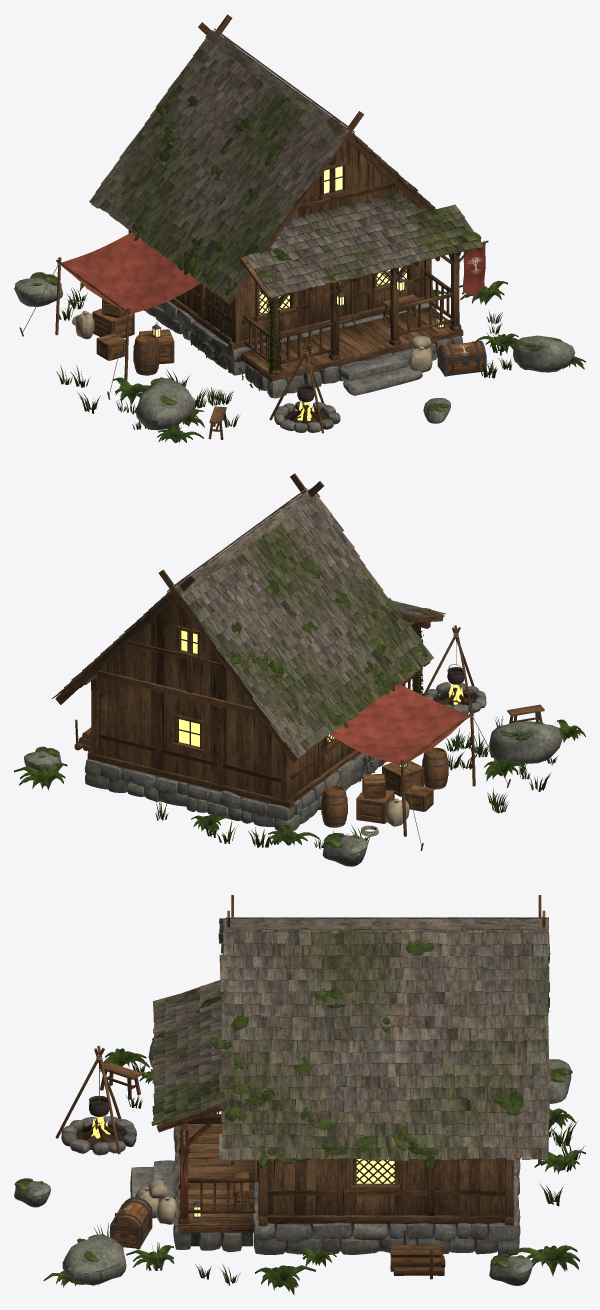
Rendered from c01_game.glb.
The picture shows the model from 3 angles, top to bottom: view 1: azimuth 30°, elevation 25°; view 2: azimuth 150°, elevation 25°; view 3: azimuth 270°, elevation 25°; orthographic projection. The views are drawn at different scales.
Parts seen in each view (by area): view 1: C01_Casa_Tejado_LOD0, C01_Casa_Porche_LOD0, C01_Casa_Estructura_LOD0, C01_Casa_Cimientos_LOD0, C01_Acc_Toldo_LOD0, C01_Acc_Roca_A_LOD0, C01_Casa_Ventanas_LOD0, C01_Acc_Roca_A_LOD0_2, C01_Casa_Hiedra_LOD0, C01_Acc_Fogata_LOD0, C01_Acc_Roca_B_LOD0_2, C01_Acc_Estandarte_LOD0 (+6 smaller); view 2: C01_Casa_Tejado_LOD0, C01_Casa_Estructura_LOD0, C01_Casa_Cimientos_LOD0, C01_Acc_Toldo_LOD0, C01_Acc_Roca_A_LOD0, C01_Casa_Ventanas_LOD0, C01_Acc_Fogata_LOD0, C01_Acc_Roca_B_LOD0_2, C01_Casa_Porche_LOD0, C01_Acc_Barril_LOD0, C01_Acc_Tripode_Caldero_LOD0, C01_Acc_Barril_LOD0_2 (+7 smaller); view 3: C01_Casa_Tejado_LOD0, C01_Casa_Porche_LOD0, C01_Casa_Estructura_LOD0, C01_Casa_Cimientos_LOD0, C01_Acc_Roca_A_LOD0_2, C01_Acc_Fogata_LOD0, C01_Acc_Lenera_LOD0, C01_Casa_Ventanas_LOD0, C01_Acc_Tripode_Caldero_LOD0, C01_Acc_Roca_B_LOD0, C01_Cofre_Tapa_LOD0, C01_Acc_Helecho_LOD0_4 (+5 smaller).
Boxes of the visible parts, box(x1,y1,x2,y2) form: C01_Casa_Tejado_LOD0: box(89, 14, 437, 304); C01_Casa_Porche_LOD0: box(240, 192, 483, 382); C01_Casa_Estructura_LOD0: box(128, 140, 435, 350); C01_Casa_Cimientos_LOD0: box(144, 301, 462, 398); C01_Acc_Toldo_LOD0: box(19, 232, 200, 399); C01_Acc_Roca_A_LOD0: box(135, 377, 195, 430); C01_Casa_Ventanas_LOD0: box(254, 161, 413, 320); C01_Acc_Roca_A_LOD0_2: box(513, 335, 575, 372); C01_Casa_Hiedra_LOD0: box(191, 294, 282, 390); C01_Acc_Fogata_LOD0: box(274, 401, 340, 432); C01_Acc_Roca_B_LOD0_2: box(15, 272, 62, 306); C01_Acc_Estandarte_LOD0: box(459, 240, 488, 296); C01_Casa_Tejado_LOD0: box(52, 473, 433, 762); C01_Casa_Estructura_LOD0: box(83, 598, 361, 808); C01_Casa_Cimientos_LOD0: box(84, 753, 386, 831); C01_Acc_Toldo_LOD0: box(330, 684, 510, 850); C01_Acc_Roca_A_LOD0: box(489, 721, 562, 763); C01_Casa_Ventanas_LOD0: box(172, 625, 339, 752); C01_Acc_Fogata_LOD0: box(425, 682, 486, 714); C01_Acc_Roca_B_LOD0_2: box(322, 833, 367, 866); C01_Casa_Porche_LOD0: box(203, 563, 445, 693); C01_Acc_Barril_LOD0: box(321, 786, 347, 827); C01_Acc_Tripode_Caldero_LOD0: box(423, 625, 474, 715); C01_Acc_Barril_LOD0_2: box(422, 747, 448, 789); C01_Casa_Tejado_LOD0: box(211, 895, 550, 1170); C01_Casa_Porche_LOD0: box(151, 979, 255, 1232); C01_Casa_Estructura_LOD0: box(258, 1157, 514, 1226); C01_Casa_Cimientos_LOD0: box(130, 1126, 520, 1255); C01_Acc_Roca_A_LOD0_2: box(62, 1234, 126, 1285); C01_Acc_Fogata_LOD0: box(61, 1116, 136, 1155); C01_Acc_Lenera_LOD0: box(390, 1229, 445, 1279); C01_Casa_Ventanas_LOD0: box(255, 1157, 399, 1189); C01_Acc_Tripode_Caldero_LOD0: box(55, 1045, 121, 1154); C01_Acc_Roca_B_LOD0: box(489, 1254, 532, 1285); C01_Cofre_Tapa_LOD0: box(110, 1197, 151, 1229); C01_Acc_Helecho_LOD0_4: box(508, 1245, 579, 1271).
Size of what is drawn, in the model's own units: 11.56 by 6.15 by 10.76.
Materials: 10 (7 with a texture image).
